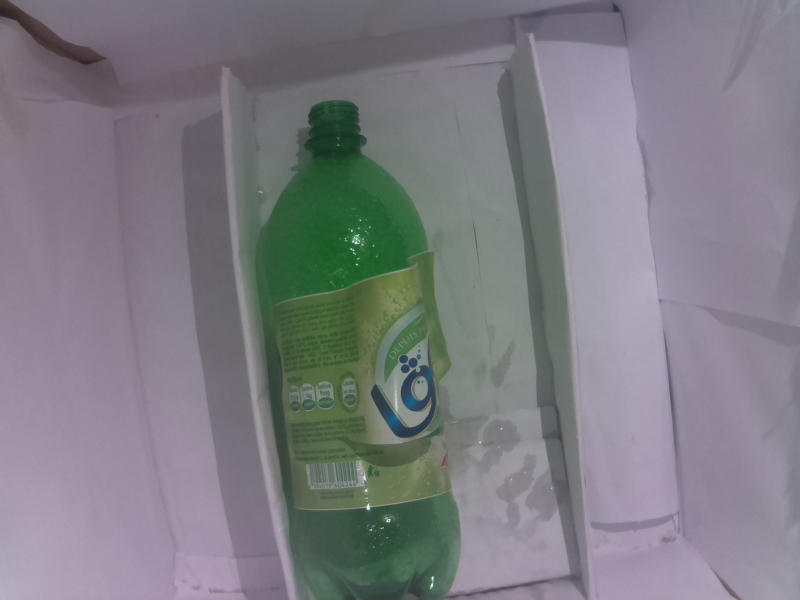botolplastik: (263, 101, 461, 600)
